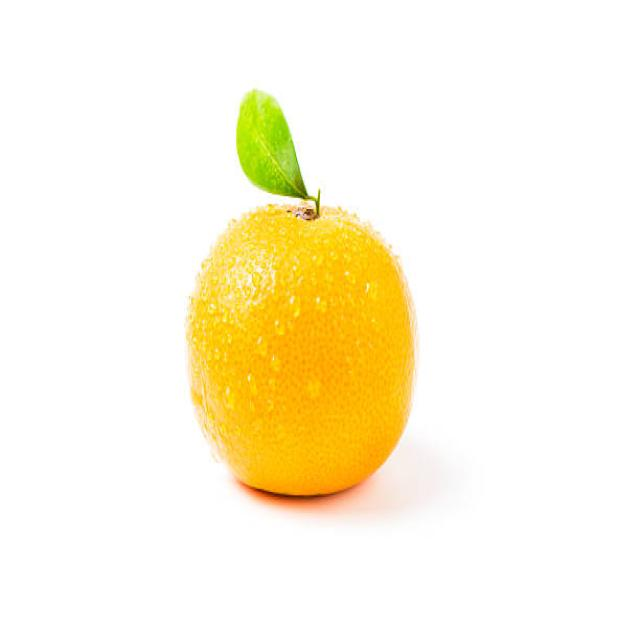Ripe: (180, 188, 421, 500)
